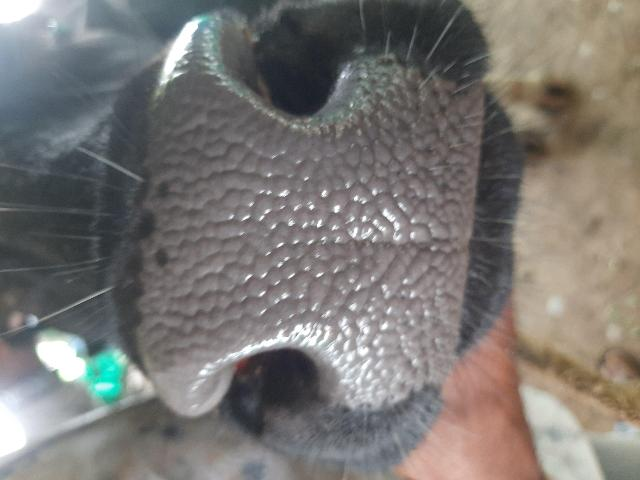Muzzle: (149, 89, 461, 369)
